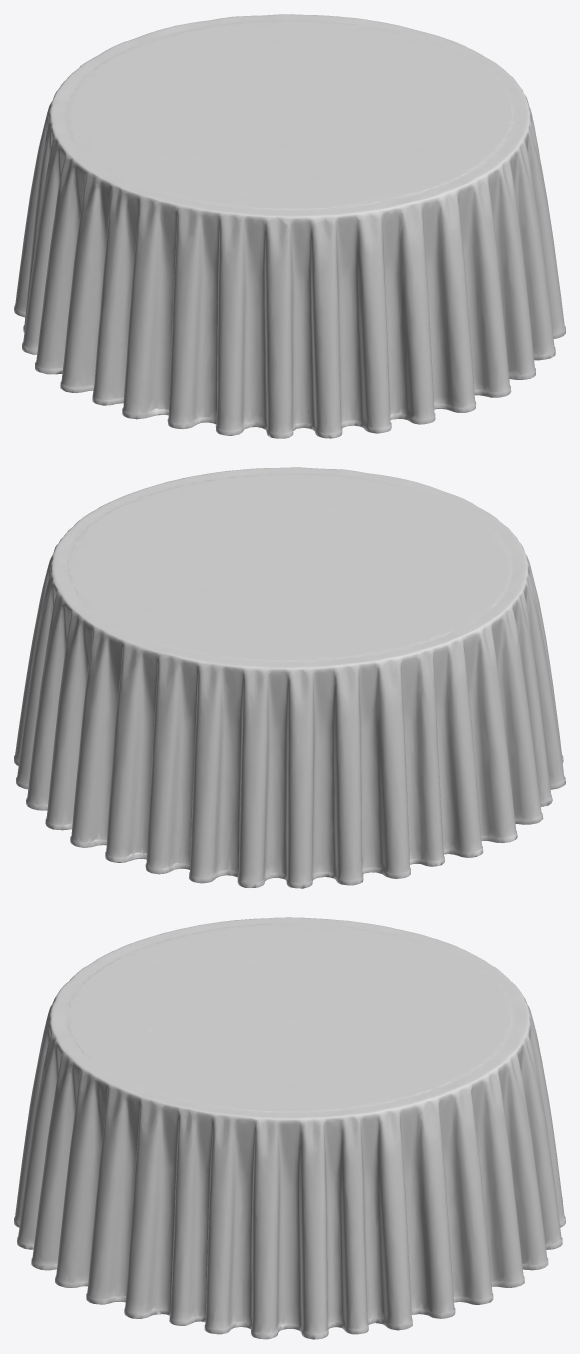
Rendered from table-round-180.glb.
3 views of the same model, one above another, from view 1: azimuth 30°, elevation 25°; view 2: azimuth 150°, elevation 25°; view 3: azimuth 270°, elevation 25° (orthographic).
Visible parts, largest first — view 1: tripo_node_153b195a-fcc3-43a8-88d3-fce6096cb8c7; view 2: tripo_node_153b195a-fcc3-43a8-88d3-fce6096cb8c7; view 3: tripo_node_153b195a-fcc3-43a8-88d3-fce6096cb8c7.
Part boxes in pixels (box(x1,y1,x2,y2)): tripo_node_153b195a-fcc3-43a8-88d3-fce6096cb8c7: box(14, 14, 565, 438); tripo_node_153b195a-fcc3-43a8-88d3-fce6096cb8c7: box(14, 467, 565, 888); tripo_node_153b195a-fcc3-43a8-88d3-fce6096cb8c7: box(14, 917, 565, 1339).
Size of the model in its own units: 1.8 by 0.75 by 1.8.
Materials: 1 (1 with a texture image).
